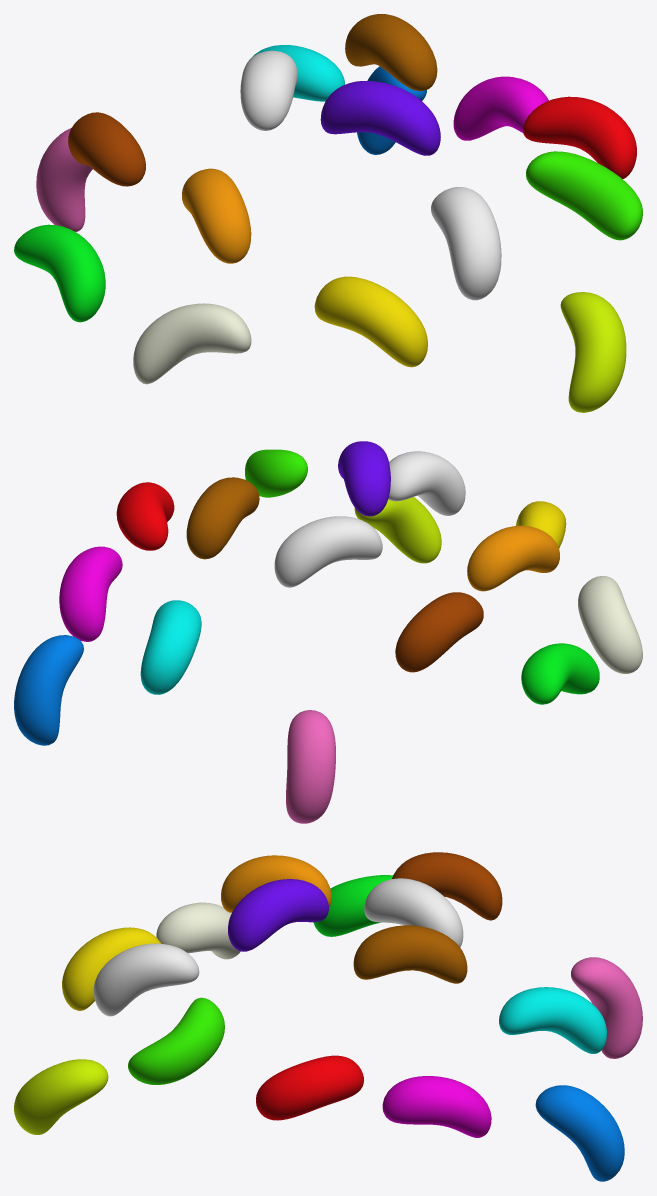
Rendered from beans.gltf.
The picture shows the model from 3 angles, top to bottom: view 1: azimuth 30°, elevation 25°; view 2: azimuth 150°, elevation 25°; view 3: azimuth 270°, elevation 25°; orthographic projection. The views are drawn at different scales.
Visible parts, largest first — view 1: Cube.006, Cube.010, Cube.009, Cube.004, Cube.015, Cube.011, Cube.001, Cube.003, Cube.008, Cube.014, Cube.002, Cube (+4 smaller); view 2: Cube.007, Cube.005, Cube.012, Cube, Cube.015, Cube.002, Cube.014, Cube.013, Cube.008, Cube.001, Cube.003, Cube.004 (+4 smaller); view 3: Cube.008, Cube.007, Cube.002, Cube.011, Cube.006, Cube.013, Cube.001, Cube.009, Cube.004, Cube.005, Cube, Cube.012 (+4 smaller).
Boxes of the visible parts, x1,y1,x2,y2 form: Cube.006: (526,151,642,240); Cube.010: (314,276,427,367); Cube.009: (320,81,440,155); Cube.004: (560,292,626,412); Cube.015: (133,303,251,384); Cube.011: (523,96,636,178); Cube.001: (431,187,501,300); Cube.003: (14,224,105,322); Cube.008: (345,14,437,91); Cube.014: (182,168,251,263); Cube.002: (453,76,548,140); Cube: (68,112,145,186); Cube.007: (14,635,83,745); Cube.005: (286,710,335,823); Cube.012: (274,516,382,587); Cube: (395,592,483,672); Cube.015: (578,576,642,673); Cube.002: (59,546,122,641); Cube.014: (467,525,559,591); Cube.013: (140,600,201,694); Cube.008: (186,477,259,559); Cube.001: (388,451,465,515); Cube.003: (521,643,599,704); Cube.004: (354,497,441,563); Cube.008: (353,925,467,983); Cube.007: (535,1085,624,1181); Cube.002: (382,1076,491,1137); Cube.011: (256,1055,363,1120); Cube.006: (128,997,224,1084); Cube.013: (499,987,606,1053); Cube.001: (93,943,199,1016); Cube.009: (228,879,328,951); Cube.004: (14,1059,108,1134); Cube.005: (571,957,642,1058); Cube: (392,852,502,920); Cube.012: (364,878,463,947).
Bounding box in the file's own units: 0.9884 × 0.4354 × 1.1.
